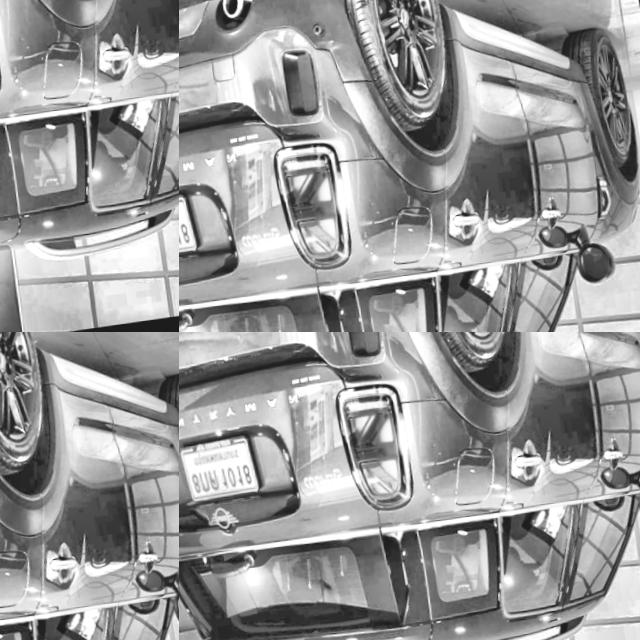license-plate: (179, 0, 640, 332), (0, 332, 135, 422), (179, 426, 262, 510)
